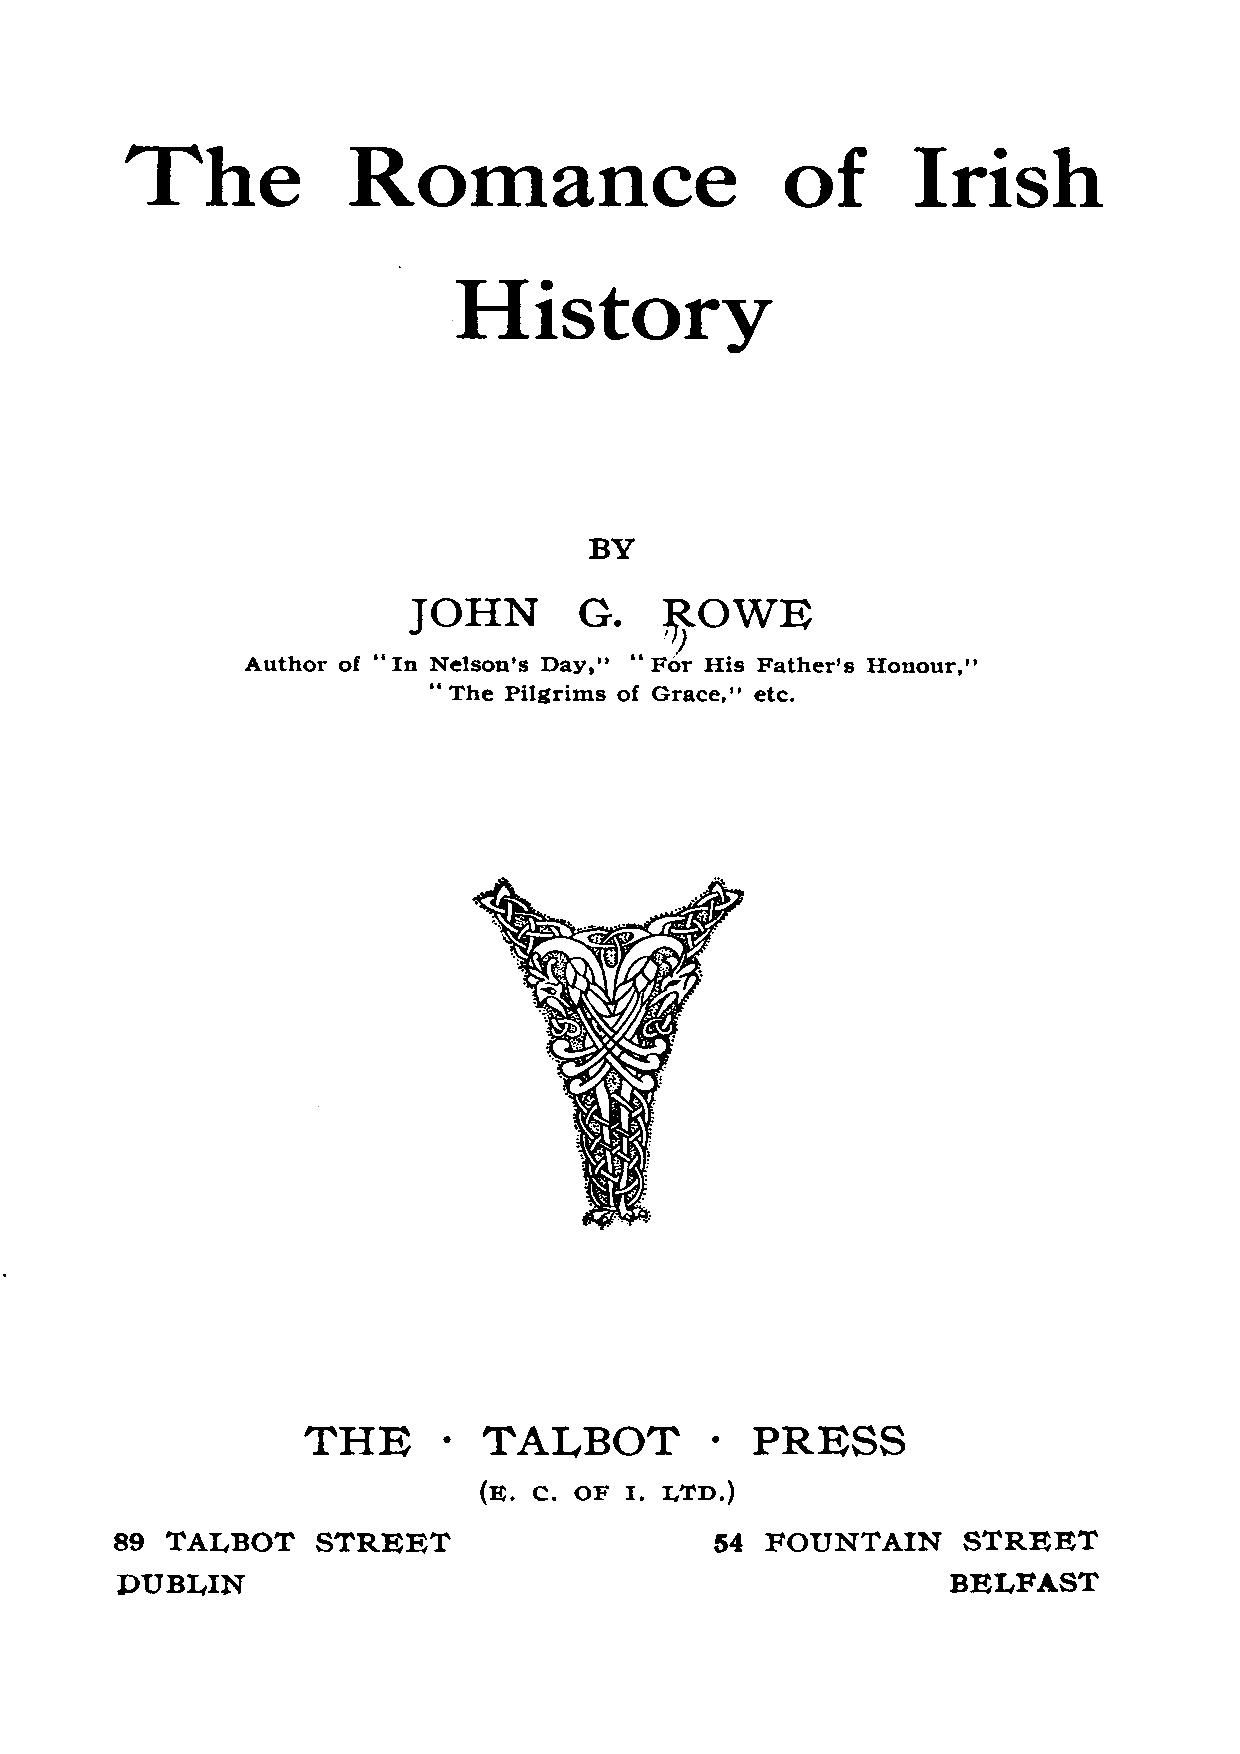author: (403, 534, 815, 637)
title: (119, 140, 1103, 357)
